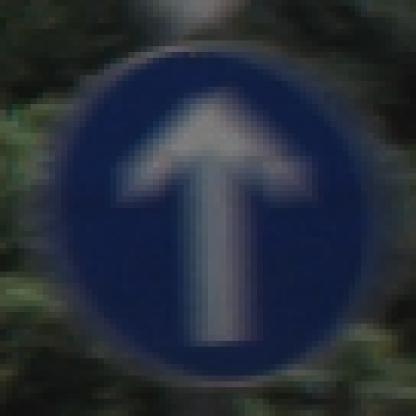AheadOnly: (44, 36, 380, 382)
